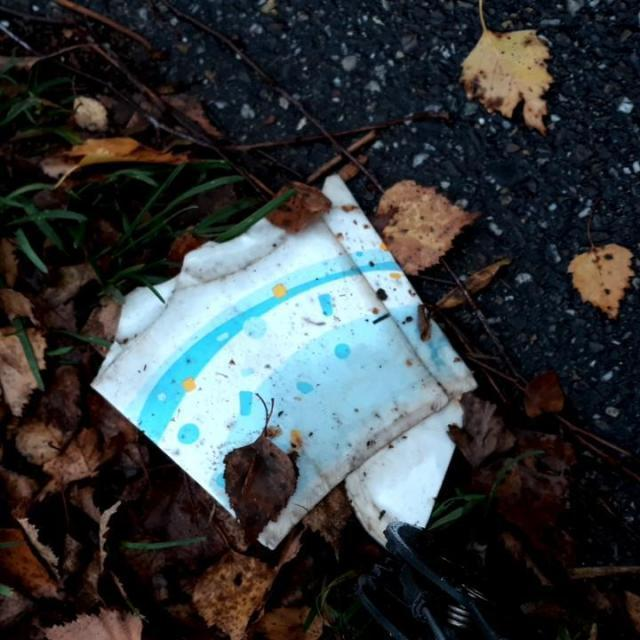Paper: (89, 171, 479, 551)
